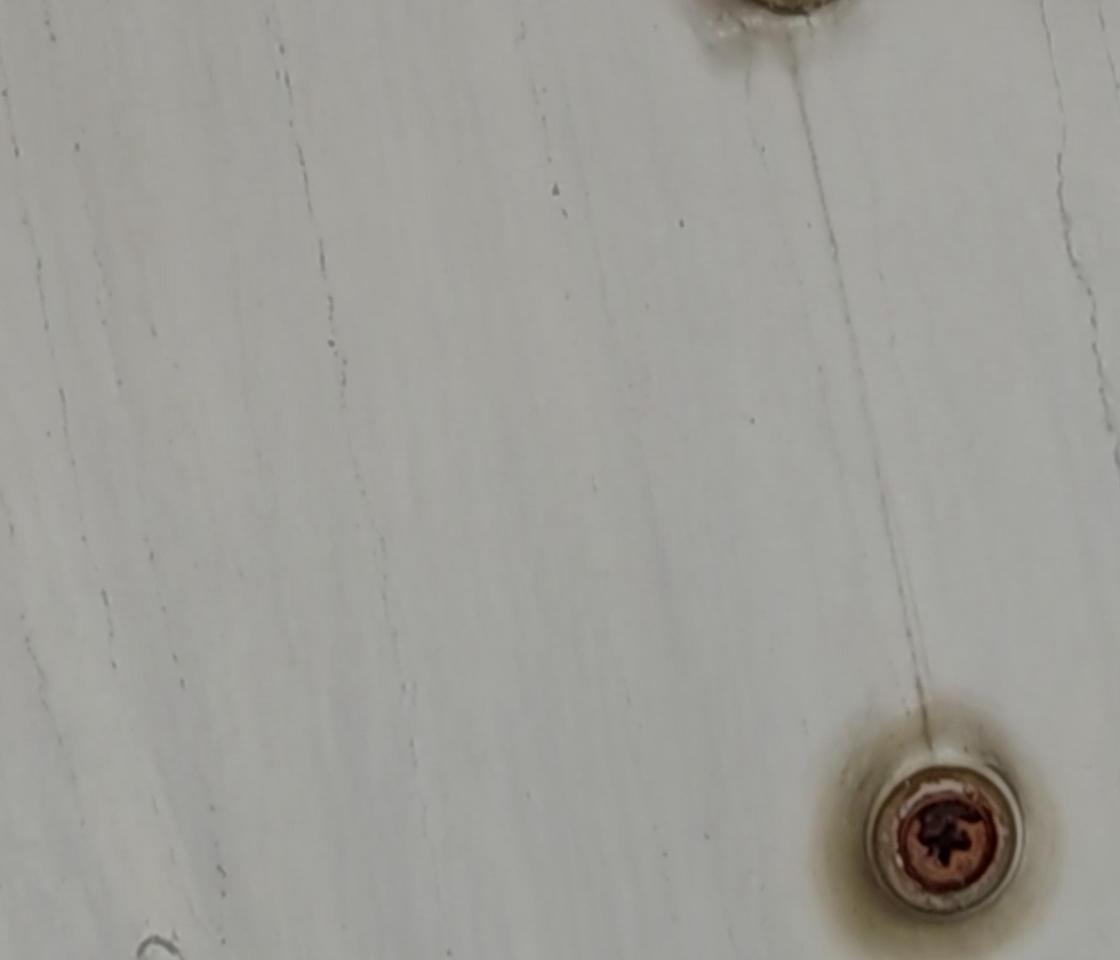rivet_damage: (870, 745, 1023, 925)
